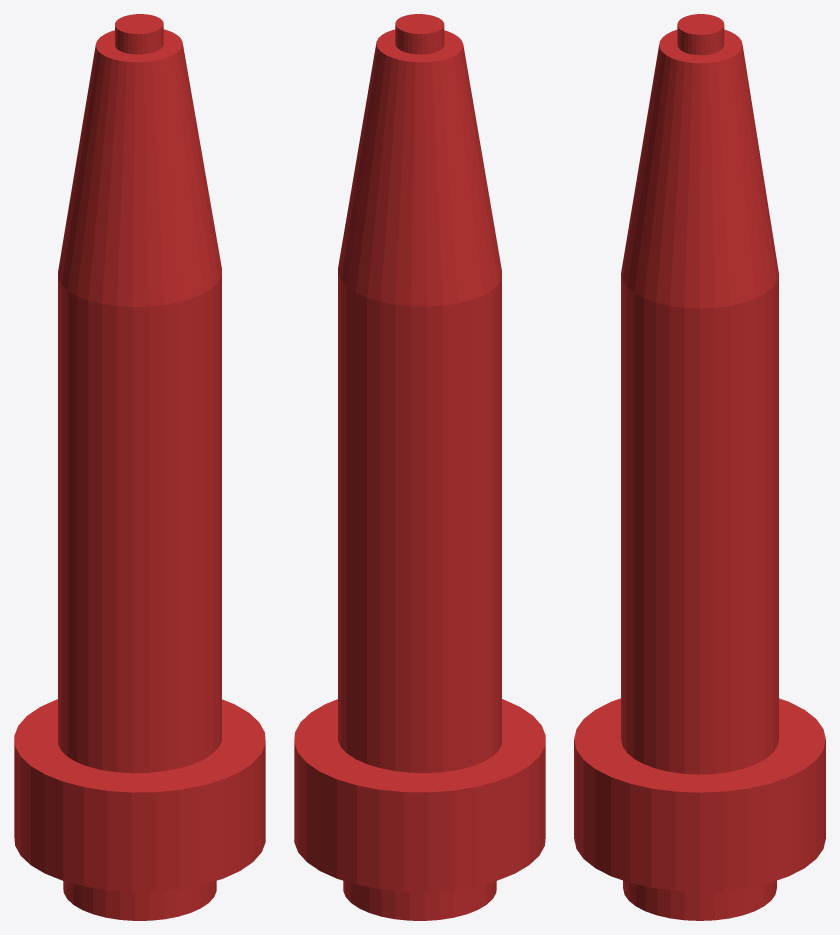
The model's file is surmark950410.dae.
3 views of the same model, side by side, from view 1: azimuth 30°, elevation 25°; view 2: azimuth 150°, elevation 25°; view 3: azimuth 270°, elevation 25° (orthographic).
Visible parts, largest first — view 1: Cylinder; view 2: Cylinder; view 3: Cylinder.
Boxes of the visible parts, bbox=[...] form: Cylinder: bbox=[14, 14, 265, 920]; Cylinder: bbox=[294, 14, 545, 920]; Cylinder: bbox=[574, 14, 825, 920].
Bounding box in the file's own units: 0.46 × 0.46 × 1.74.
